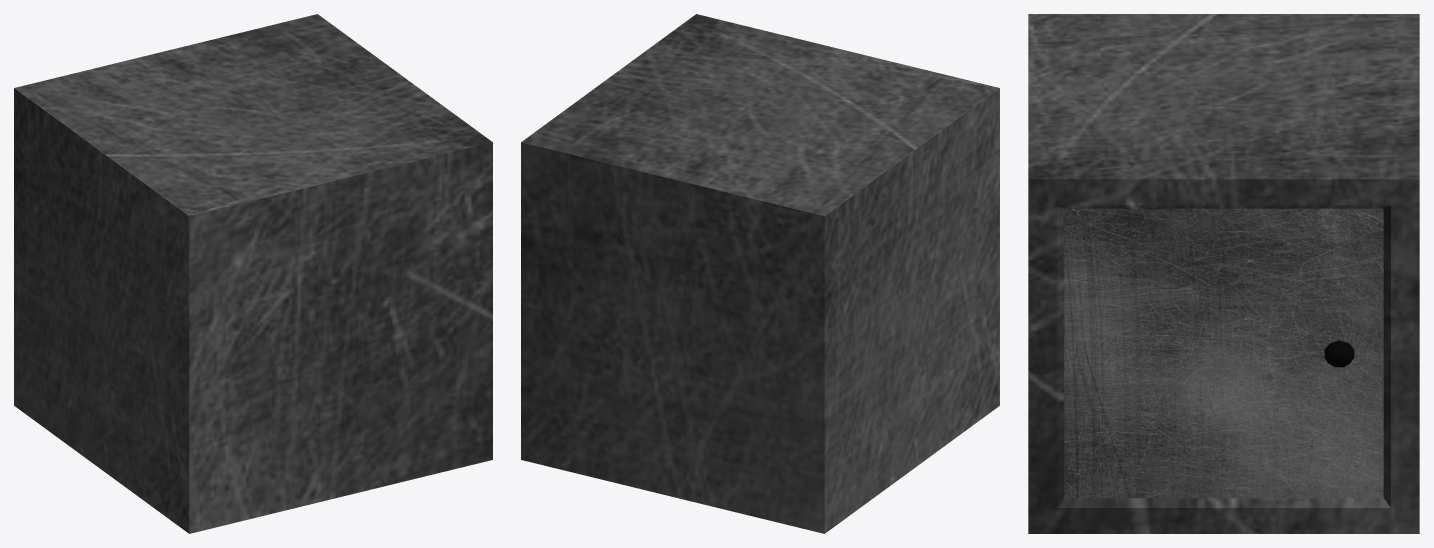
The model's file is locker_teste.obj.
The picture shows the model from 3 angles, left to right: view 1: azimuth 30°, elevation 25°; view 2: azimuth 150°, elevation 25°; view 3: azimuth 270°, elevation 25°; orthographic projection. The views are drawn at different scales.
Parts seen in each view (by area): view 1: Cube; view 2: Cube; view 3: Cube.
Part boxes in pixels (left/top/right/bottom): Cube: left=14, top=14, right=492, bottom=533; Cube: left=521, top=14, right=999, bottom=533; Cube: left=1028, top=14, right=1419, bottom=533.
Bounding box in the file's own units: 2.03 × 2 × 2.
